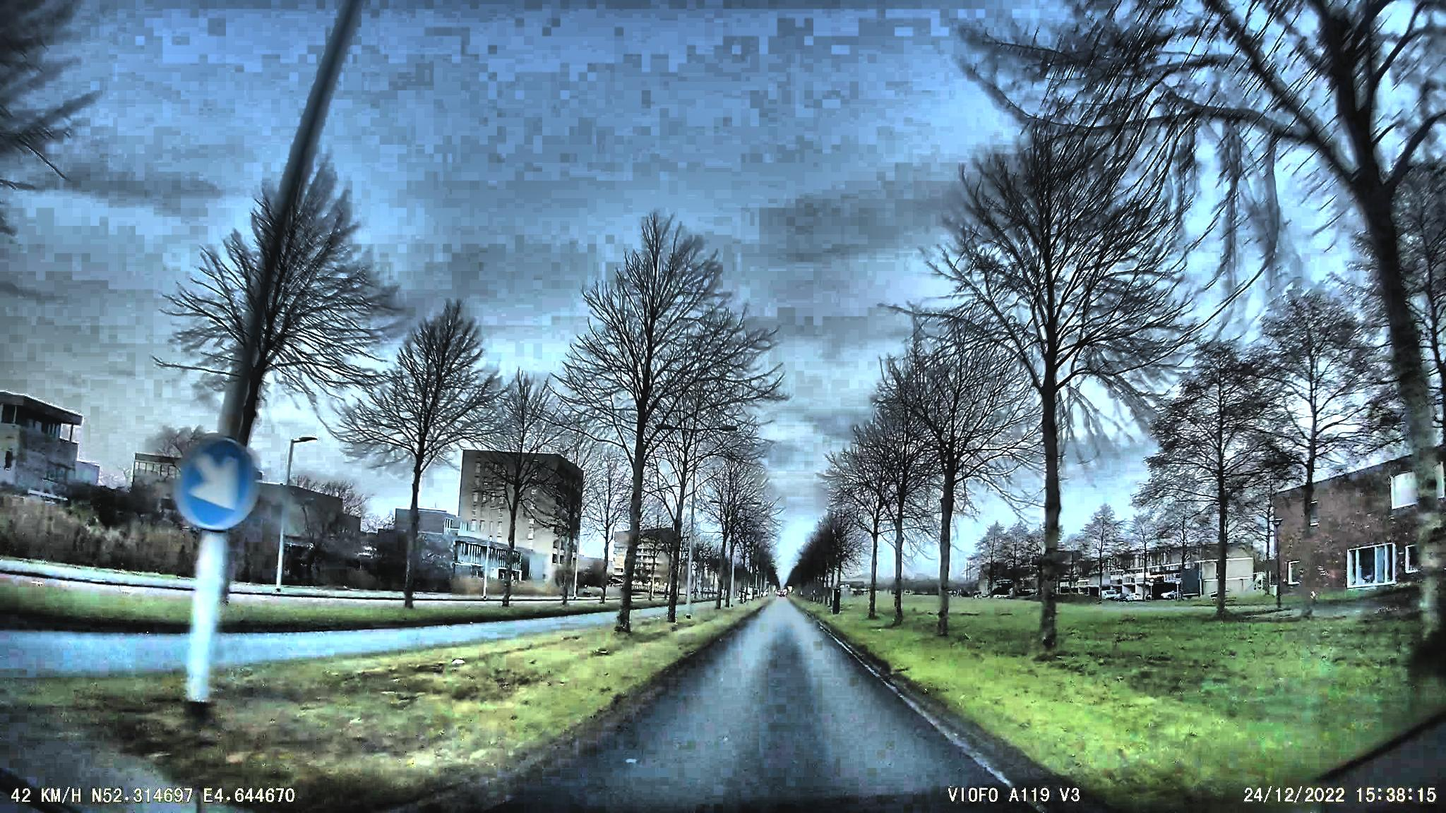Roads: (481, 601, 1104, 813)
